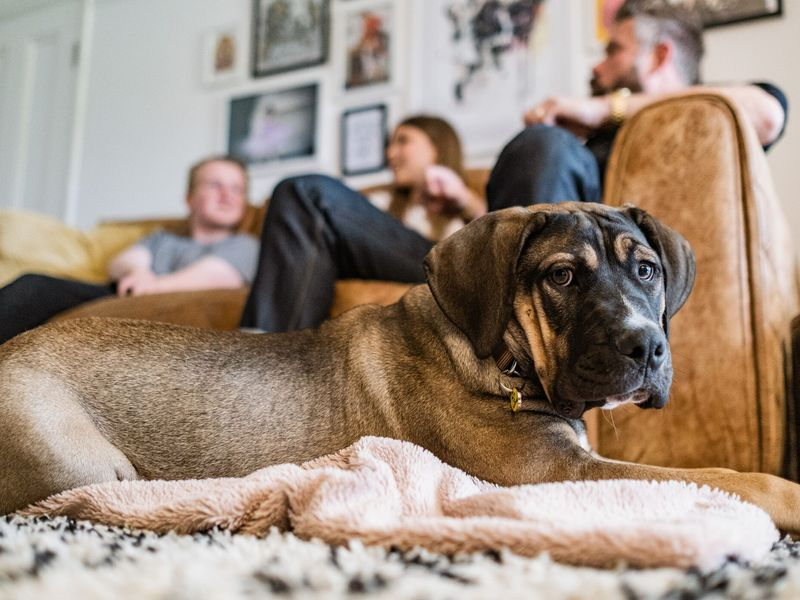Dog: (6, 195, 800, 536)
